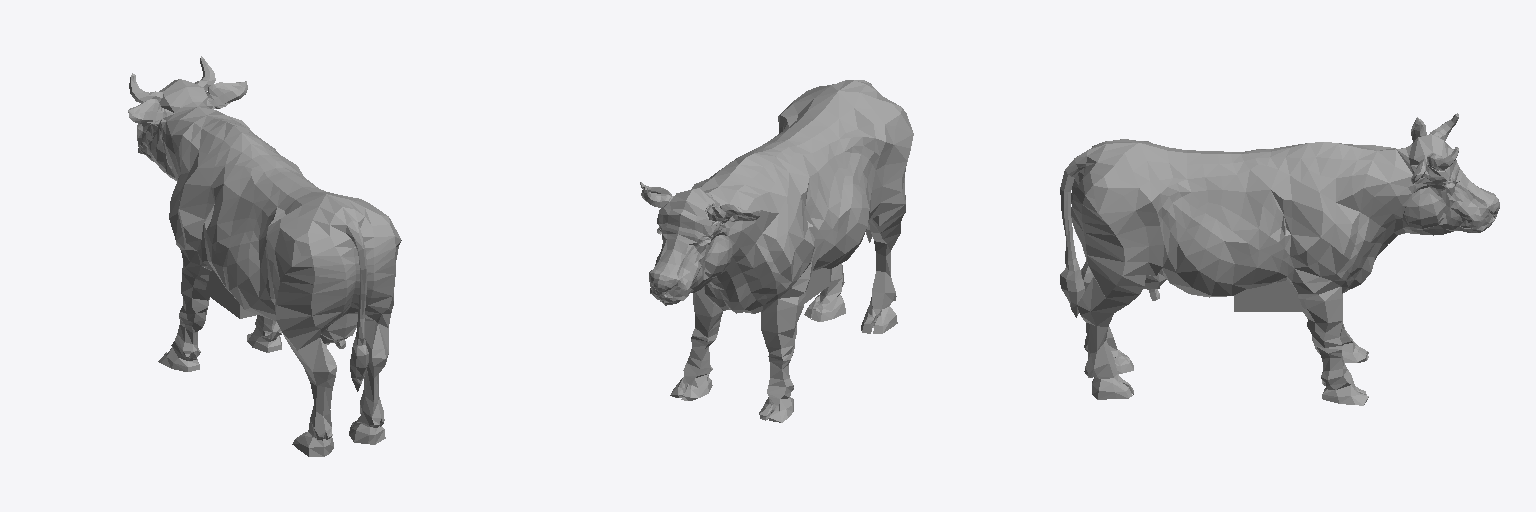
Rendered from cow.obj.
3 views of the same model, side by side, from view 1: azimuth 30°, elevation 25°; view 2: azimuth 150°, elevation 25°; view 3: azimuth 270°, elevation 25° (orthographic).
Parts seen in each view (by area): view 1: Cube.002, Cube; view 2: Cube.002, Cube; view 3: Cube.002, Cube.
Boxes of the visible parts, x1=… form: Cube.002: x1=128, y1=56, x2=401, y2=456; Cube: x1=205, y1=270, x2=256, y2=318; Cube.002: x1=640, y1=80, x2=913, y2=422; Cube: x1=761, y1=268, x2=829, y2=312; Cube.002: x1=1060, y1=113, x2=1499, y2=405; Cube: x1=1234, y1=281, x2=1304, y2=311.
Bounding box in the file's own units: 3.07 × 6.22 × 9.84.